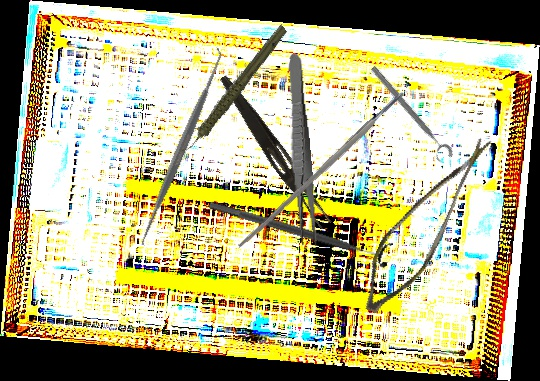Dressing Forceps: (211, 72, 338, 231), (282, 52, 319, 248)
Fixation Ring: (205, 190, 394, 271), (363, 63, 456, 166)
Handpiece: (157, 22, 309, 156)
Micro Scissor: (354, 116, 492, 329)
Scalpel Handle: (236, 90, 407, 251)
Spatula Surgical: (129, 45, 234, 249)
